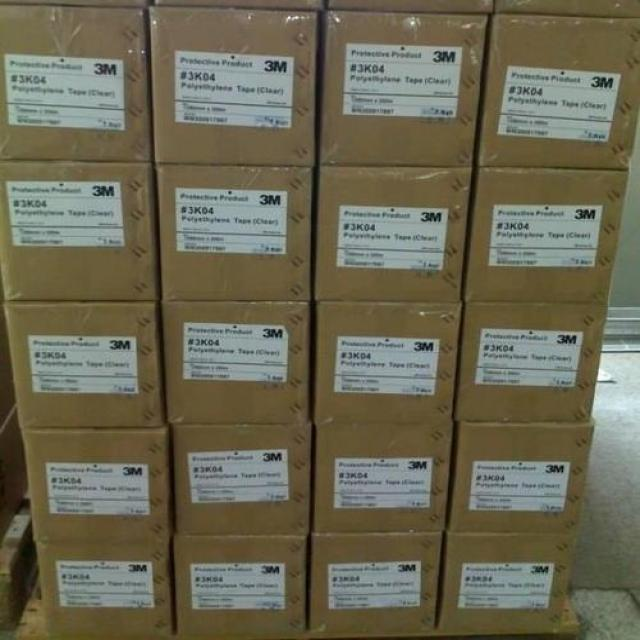box: (146, 5, 319, 167), (317, 12, 489, 167), (477, 13, 639, 169), (0, 5, 152, 161), (465, 165, 628, 305), (152, 162, 316, 301), (0, 161, 160, 301), (316, 166, 474, 302), (4, 301, 165, 428), (20, 422, 174, 543), (312, 301, 462, 423), (454, 304, 609, 422), (161, 301, 310, 423), (442, 421, 593, 534), (308, 422, 452, 535), (169, 423, 311, 535), (435, 531, 575, 632), (307, 531, 443, 632), (174, 535, 310, 634), (36, 542, 174, 635), (494, 1, 640, 17), (325, 0, 495, 13), (146, 0, 326, 12)
